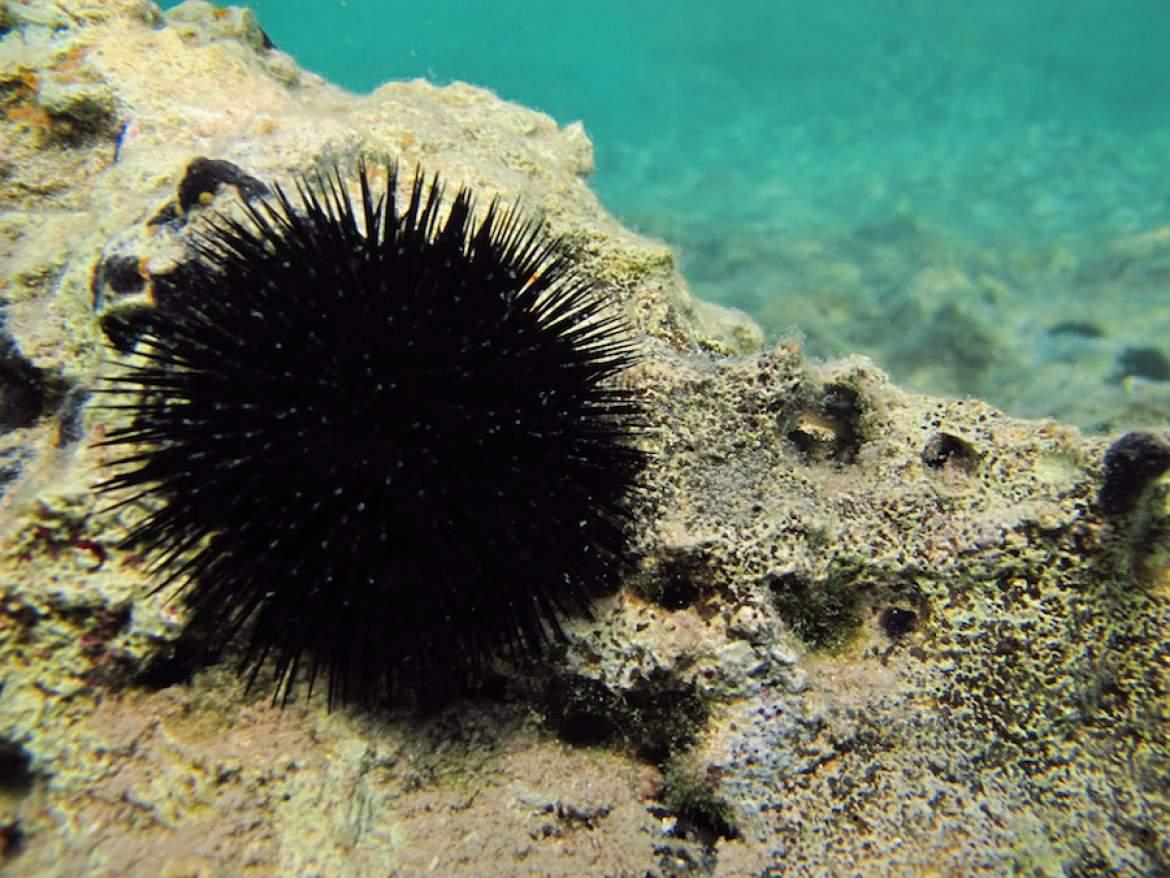urchin: (78, 155, 668, 735)
